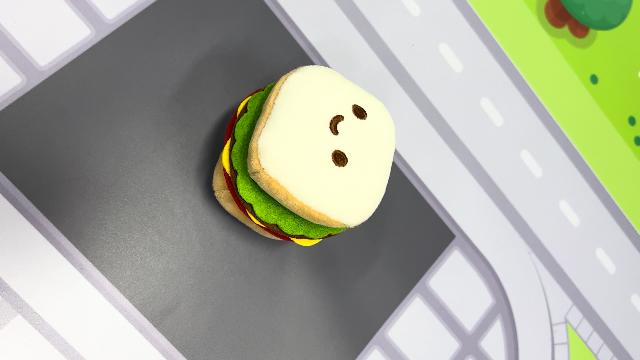sandwich: (210, 62, 398, 246)
